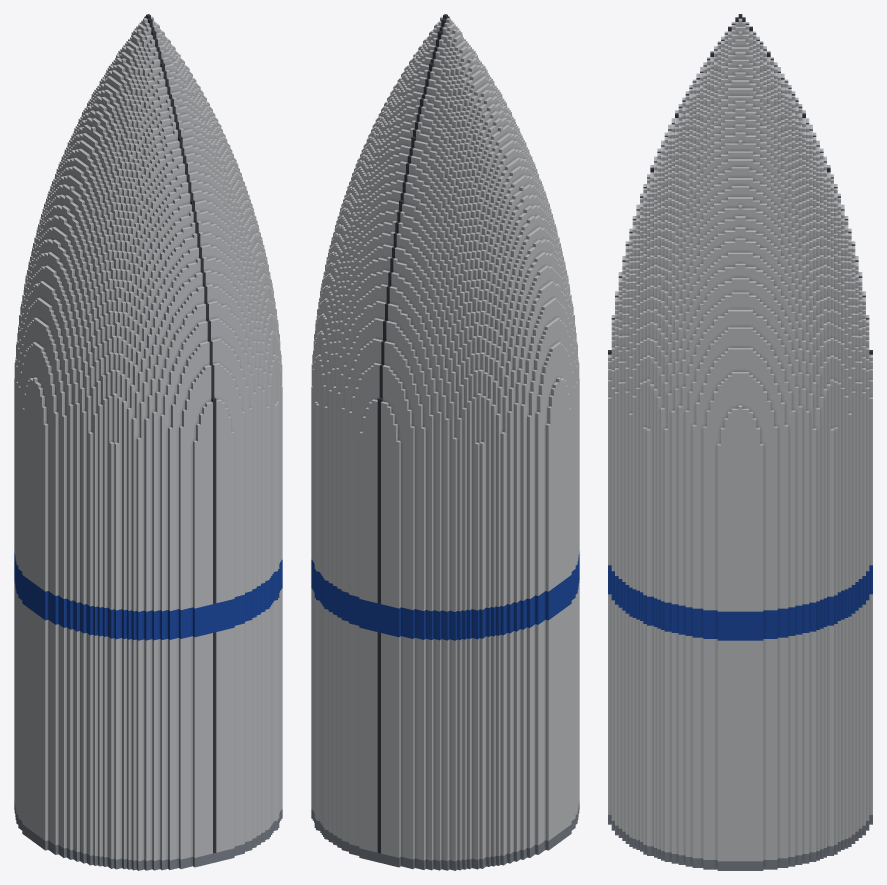
The model's file is fairing_l.glb.
The picture shows the model from 3 angles, left to right: view 1: azimuth 30°, elevation 25°; view 2: azimuth 150°, elevation 25°; view 3: azimuth 270°, elevation 25°; orthographic projection.
Parts seen in each view (by area): view 1: fairing_l; view 2: fairing_l; view 3: fairing_l.
Part boxes in pixels (x1,y1,x2,y2): fairing_l: (14, 14, 282, 870); fairing_l: (311, 14, 579, 870); fairing_l: (608, 14, 872, 870).
Size of the model in its own units: 3.75 by 12.5 by 3.75.
